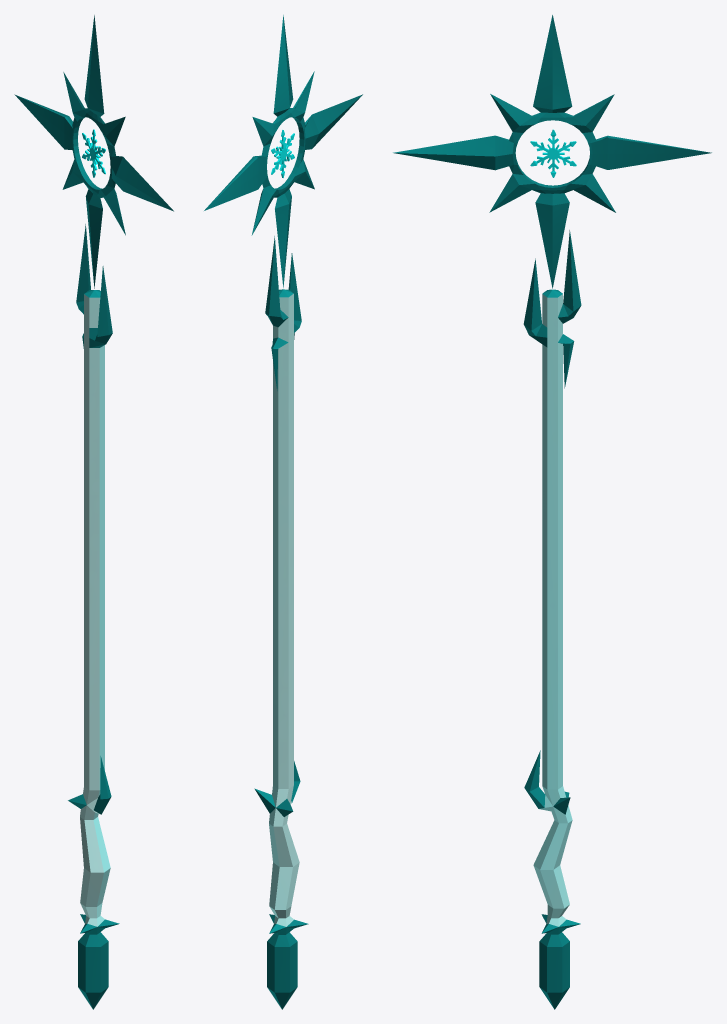
Rendered from StaffIceModel.fbx.
The picture shows the model from 3 angles, left to right: view 1: azimuth 30°, elevation 25°; view 2: azimuth 150°, elevation 25°; view 3: azimuth 270°, elevation 25°; orthographic projection.
Visible parts, largest first — view 1: Sphere.001; view 2: Sphere.001; view 3: Sphere.001.
Part boxes in pixels (left/top/right/bottom): Sphere.001: left=14, top=15, right=173, bottom=1009; Sphere.001: left=204, top=15, right=362, bottom=1009; Sphere.001: left=393, top=15, right=711, bottom=1009.
Size of the model in its own units: 0.0795 by 1.88 by 0.5475.
1 material, 1 textured.
